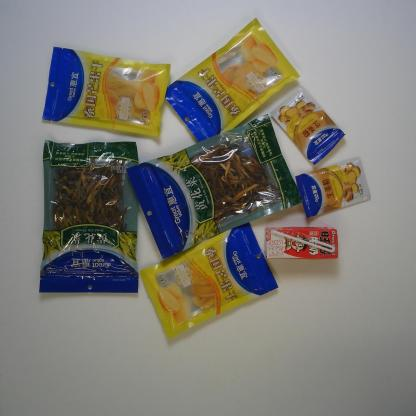Dried Food: (125, 112, 304, 260), (38, 138, 140, 294)
Dried Fruit: (164, 18, 302, 148), (138, 221, 280, 341), (42, 46, 171, 138)
Milk: (263, 226, 339, 259)
Seasoner: (270, 86, 345, 166), (295, 156, 371, 218)
